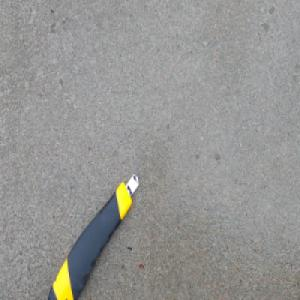Cutter: (47, 168, 139, 300)
